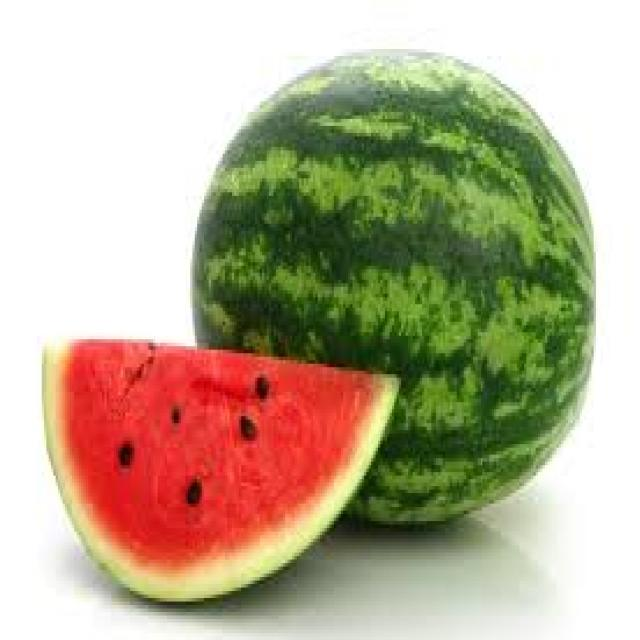organic waste: (188, 46, 596, 524), (37, 332, 404, 602)
